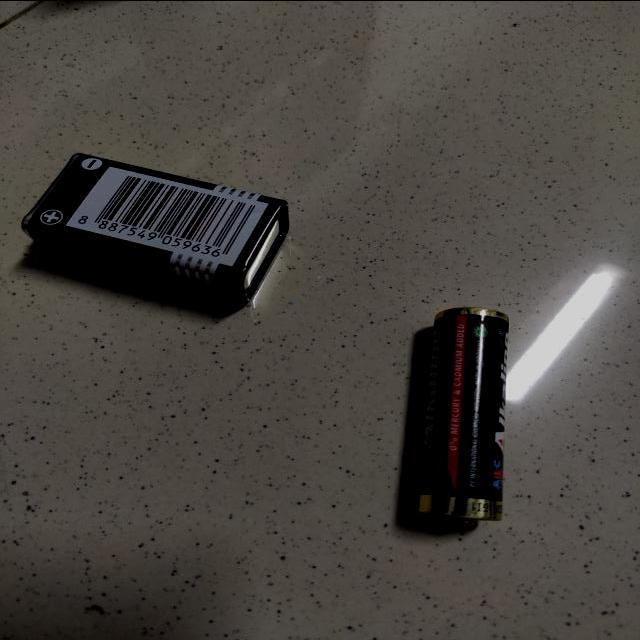9V: (14, 137, 310, 300)
AA: (381, 288, 547, 538)
